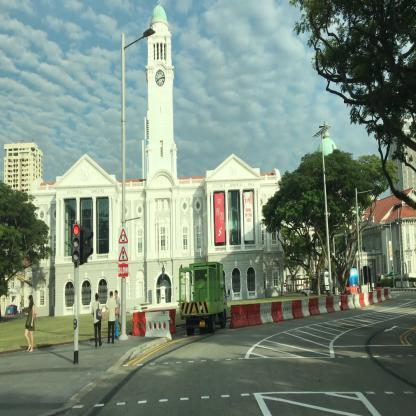red_traffic_light: (72, 223, 80, 260)
